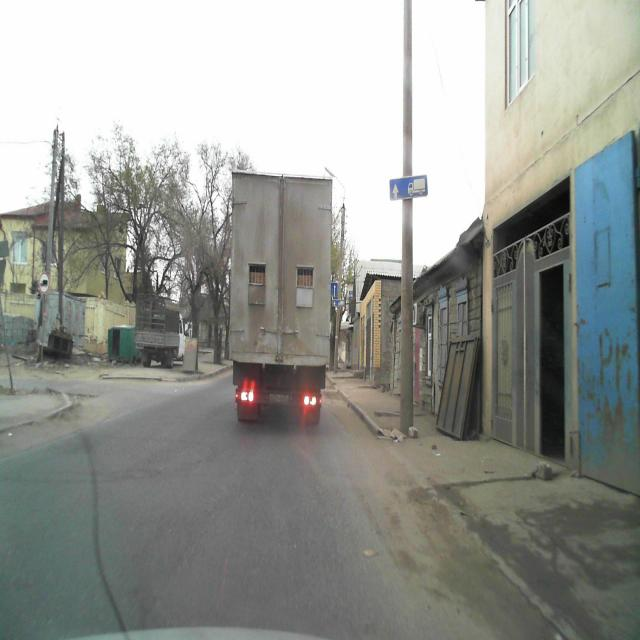road sign: (389, 177, 428, 200)
